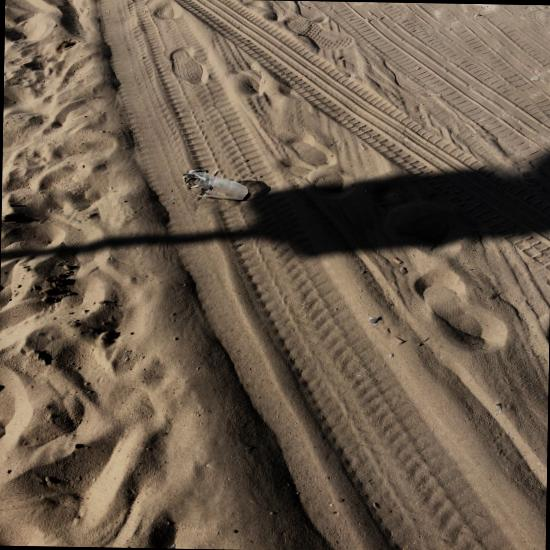Cigarette: (392, 257, 403, 264)
Disposable plastic cup: (197, 173, 247, 200)
Unlabeled litter: (182, 169, 219, 183)
